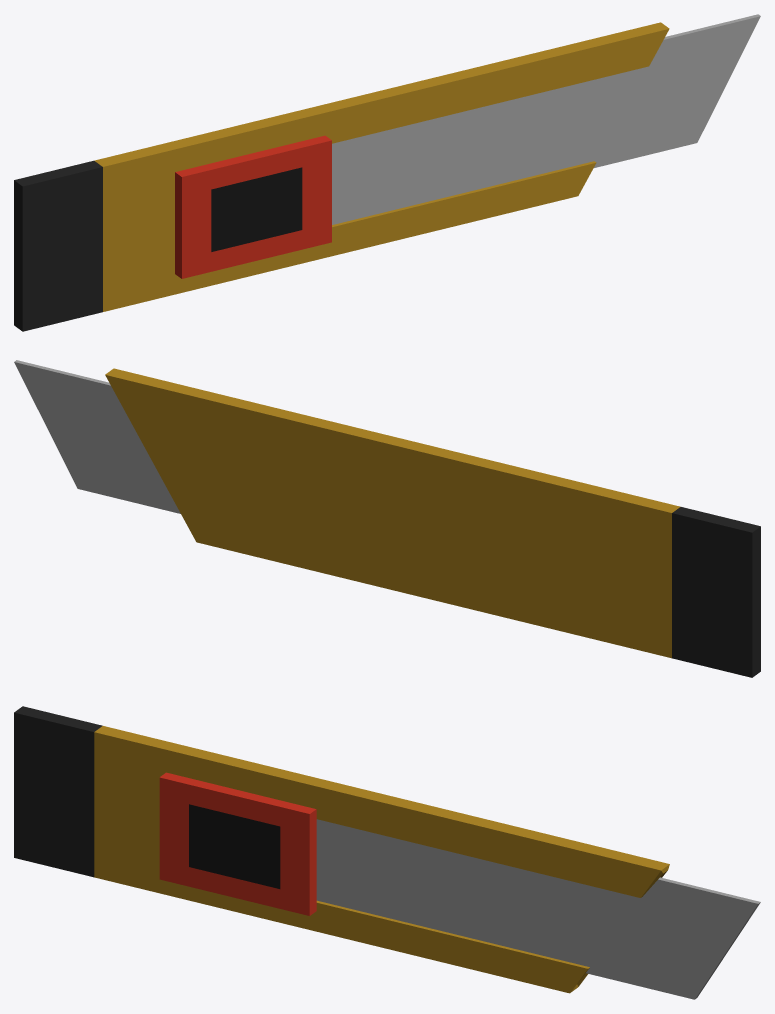
Rendered from Utilityknife.fbx.
3 views of the same model, one above another, from view 1: azimuth 30°, elevation 25°; view 2: azimuth 150°, elevation 25°; view 3: azimuth 330°, elevation 25° (orthographic).
Visible parts, largest first — view 1: Utilityknife; view 2: Utilityknife; view 3: Utilityknife.
Part boxes in pixels (x1=…): Utilityknife: x1=14, y1=14, x2=760, y2=331; Utilityknife: x1=14, y1=360, x2=760, y2=677; Utilityknife: x1=14, y1=706, x2=760, y2=999.
Bounding box in the file's own units: 84.86 × 15.89 × 3.09.
